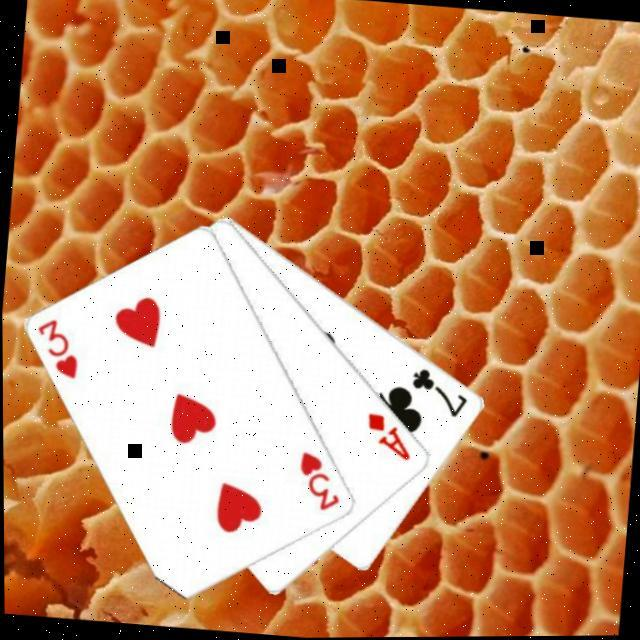3H: (28, 314, 83, 382), (292, 446, 345, 514)
7C: (405, 363, 471, 421)
AD: (359, 408, 415, 464)
